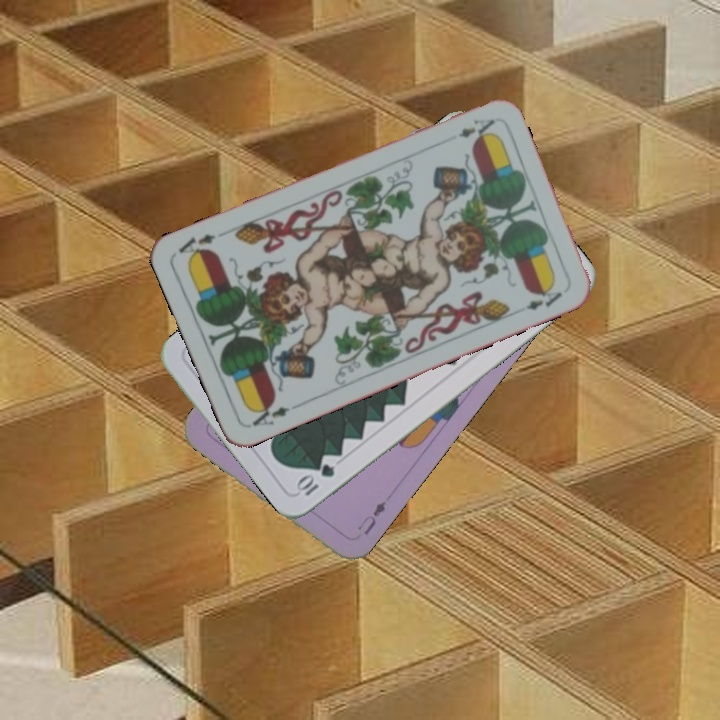EA: (247, 398, 293, 429), (454, 115, 498, 141)
EU: (353, 496, 389, 538)
G10: (292, 459, 338, 499)
